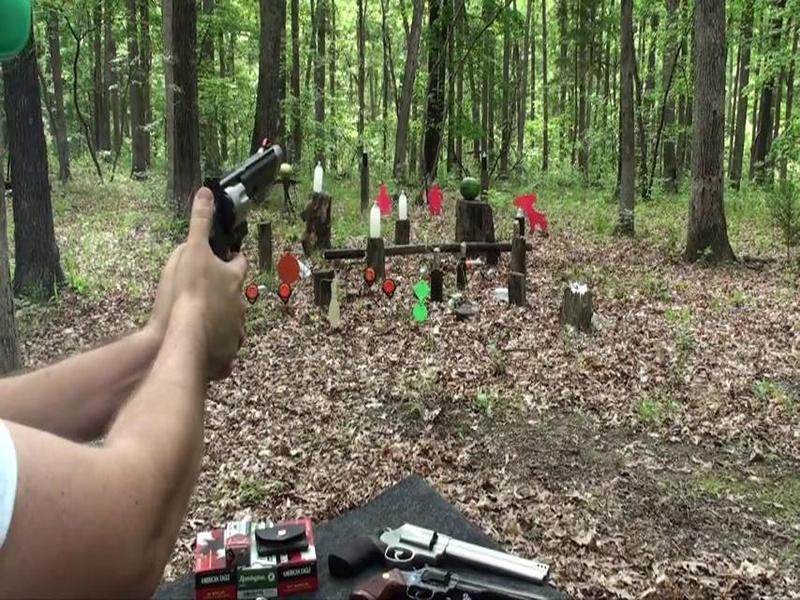Revolver: (174, 128, 297, 330)
